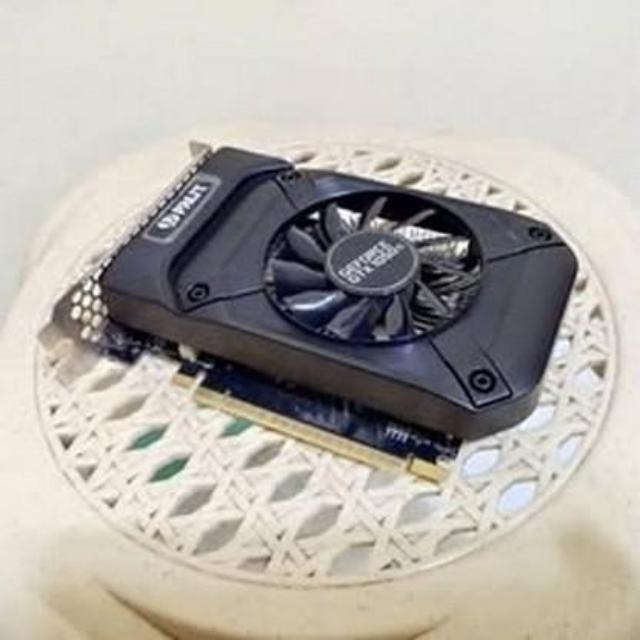GPU: (82, 127, 580, 482)
